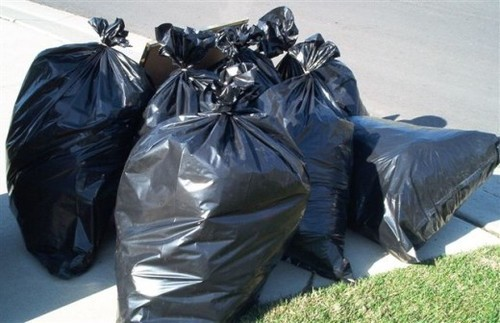plastic_bagwdw: (101, 25, 315, 323), (3, 1, 171, 302), (326, 38, 500, 295), (234, 23, 379, 314), (127, 7, 321, 168)
